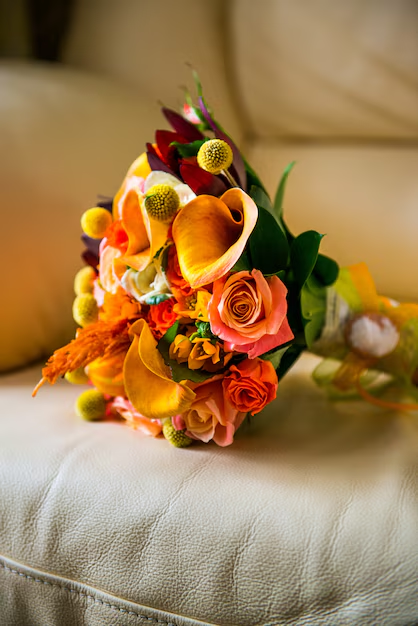Orange: (173, 187, 259, 291), (207, 270, 296, 360), (30, 316, 124, 398), (122, 319, 195, 418), (173, 380, 239, 447), (223, 353, 278, 414)
Yellow: (144, 183, 179, 221), (197, 141, 233, 174), (80, 207, 113, 240), (158, 418, 194, 447)
